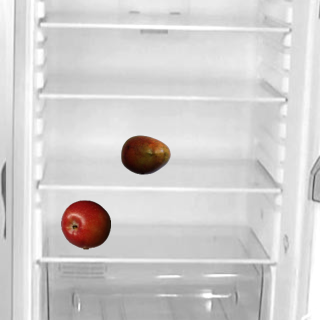Apple Braeburn: (60, 199, 110, 249)
Mango Red: (120, 129, 170, 179)
